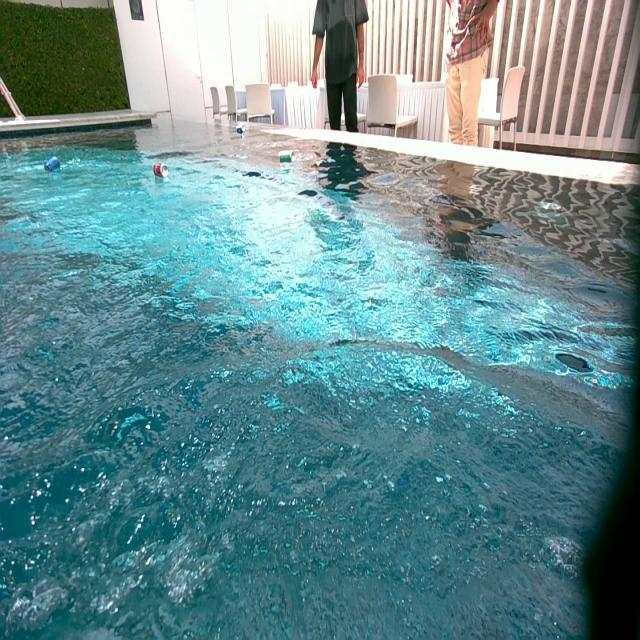Cans: (44, 158, 60, 174), (280, 151, 296, 164), (153, 164, 167, 178), (237, 126, 245, 136)
